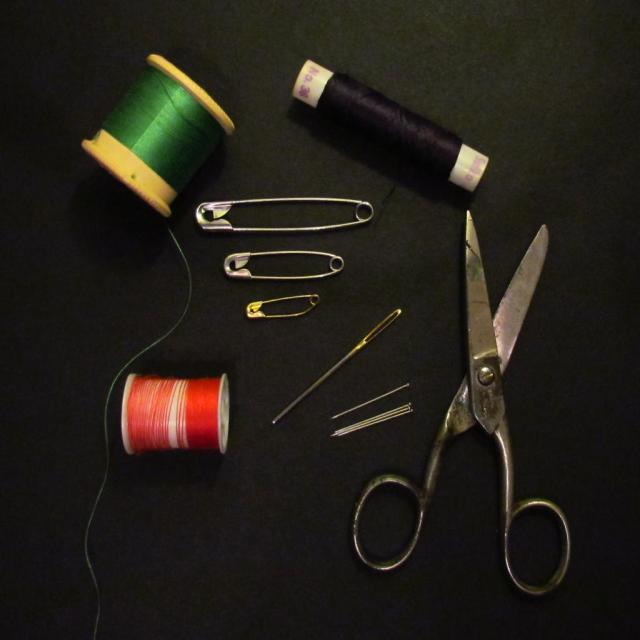scissors: (350, 209, 570, 595)
